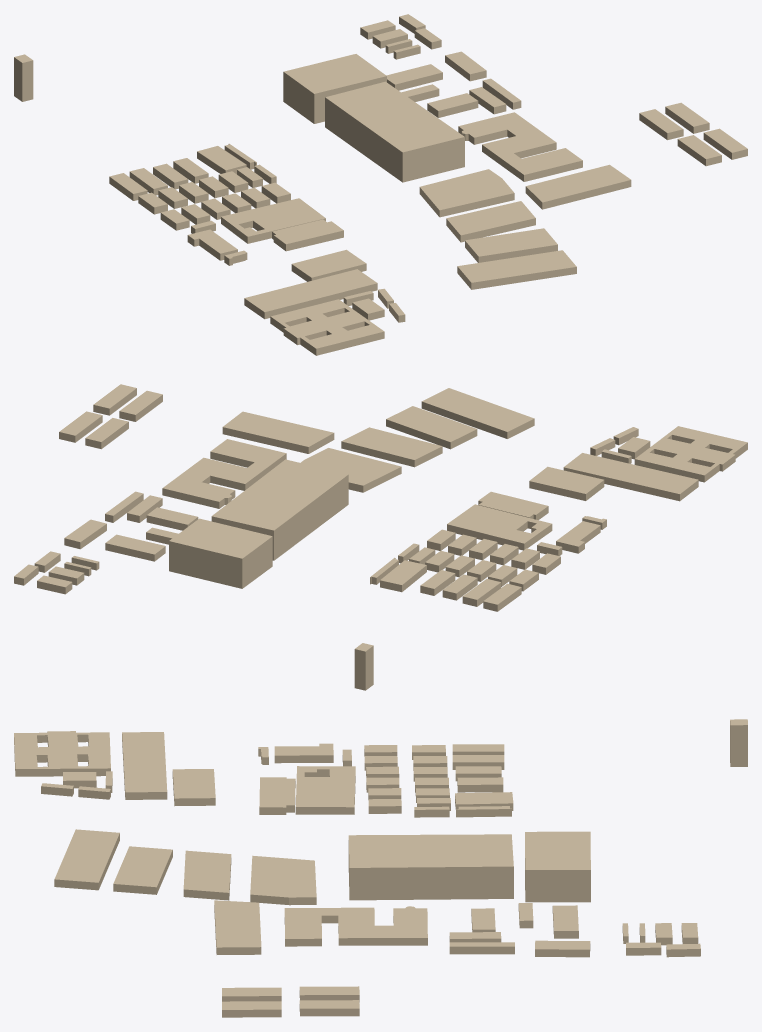
Rendered from -21_14-estimated-coarse.glb.
3 views of the same model, one above another, from view 1: azimuth 30°, elevation 25°; view 2: azimuth 150°, elevation 25°; view 3: azimuth 270°, elevation 25° (orthographic). The views are drawn at different scales.
Size of the model in its own units: 942 by 66 by 1048.
